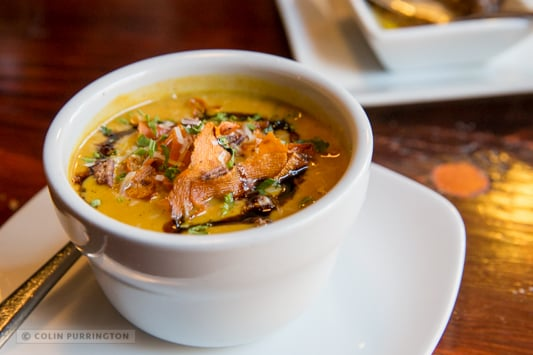sushi: (35, 53, 375, 341)
